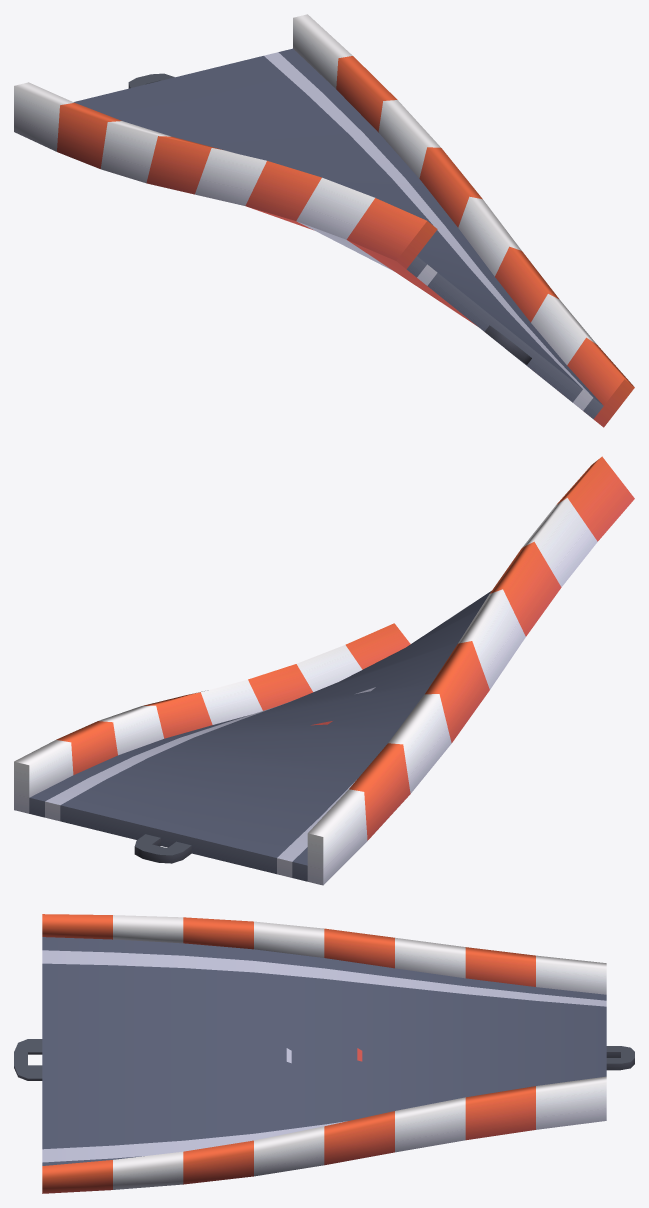
The model's file is track-road-wide-straight-skew-left.glb.
3 views of the same model, one above another, from view 1: azimuth 30°, elevation 25°; view 2: azimuth 150°, elevation 25°; view 3: azimuth 270°, elevation 25° (orthographic). The views are drawn at different scales.
Visible parts, largest first — view 1: track-road-wide-straight-skew-left; view 2: track-road-wide-straight-skew-left; view 3: track-road-wide-straight-skew-left.
Boxes of the visible parts, <box> form: track-road-wide-straight-skew-left: <box>14,14,634,427</box>; track-road-wide-straight-skew-left: <box>14,456,634,885</box>; track-road-wide-straight-skew-left: <box>14,914,634,1193</box>.
Size of the model in its own units: 2.04 by 1.63 by 4.4.
1 material, 1 textured.
